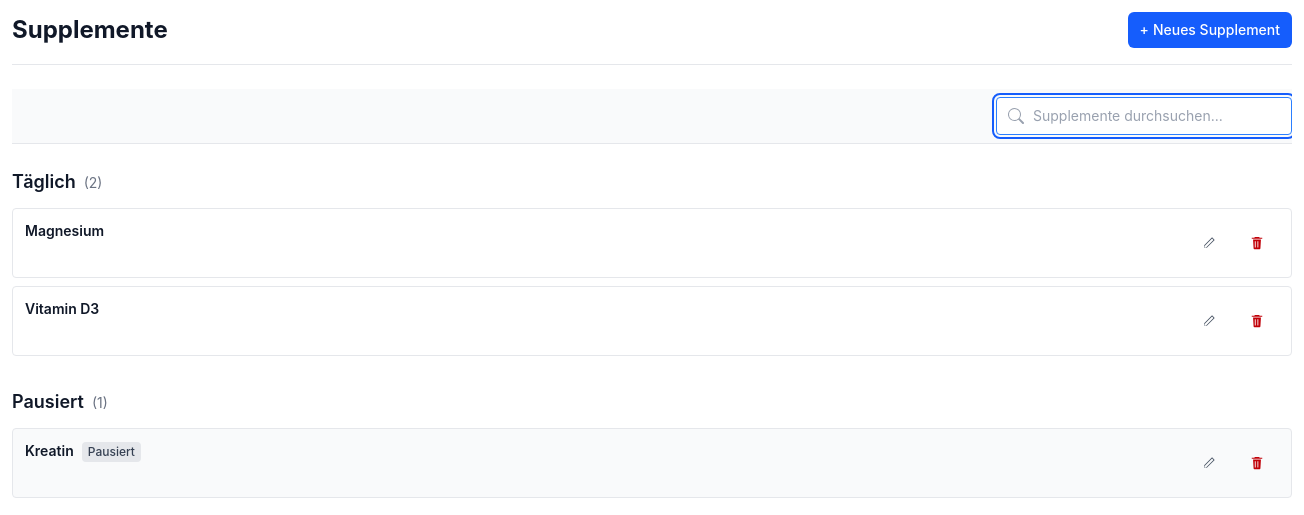
SupplementsView › search filter (P-22c) › group-label match keeps the group visible
Type "pausiert" into the search field.
click(1144, 116); type("pausiert")  # box [996,97,1292,135]
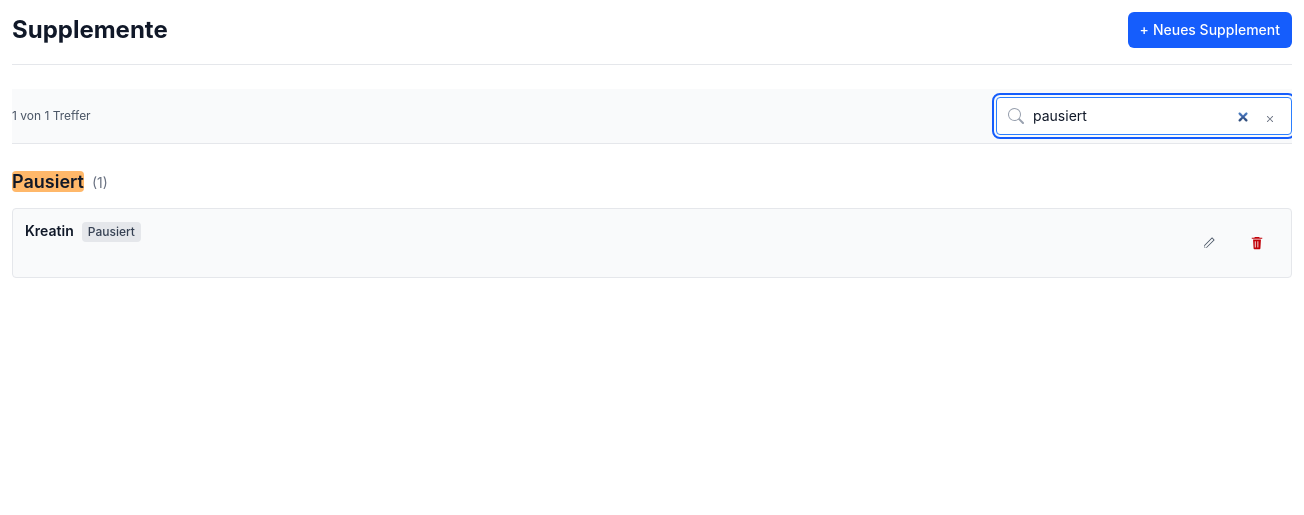
Expected: the heading "Pausiert (1)" is shown, [12,171,108,192]
Expected: the text "Täglich" is gone
